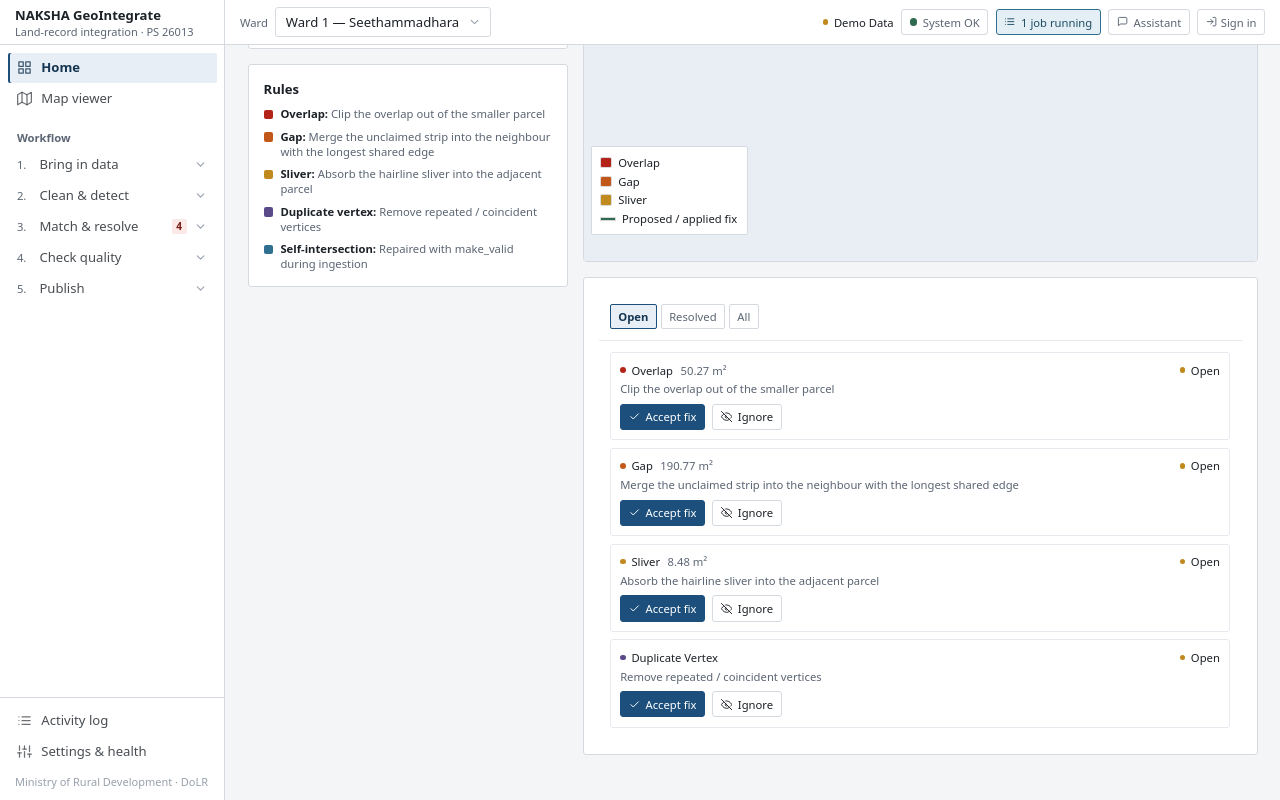
TopologyPage › lists open topology issues and accepts a fix
(page scrolled)
Click the 1st button "Accept fix": (662, 417) top-left (620, 404), bottom-right (705, 430)
(page scrolled)
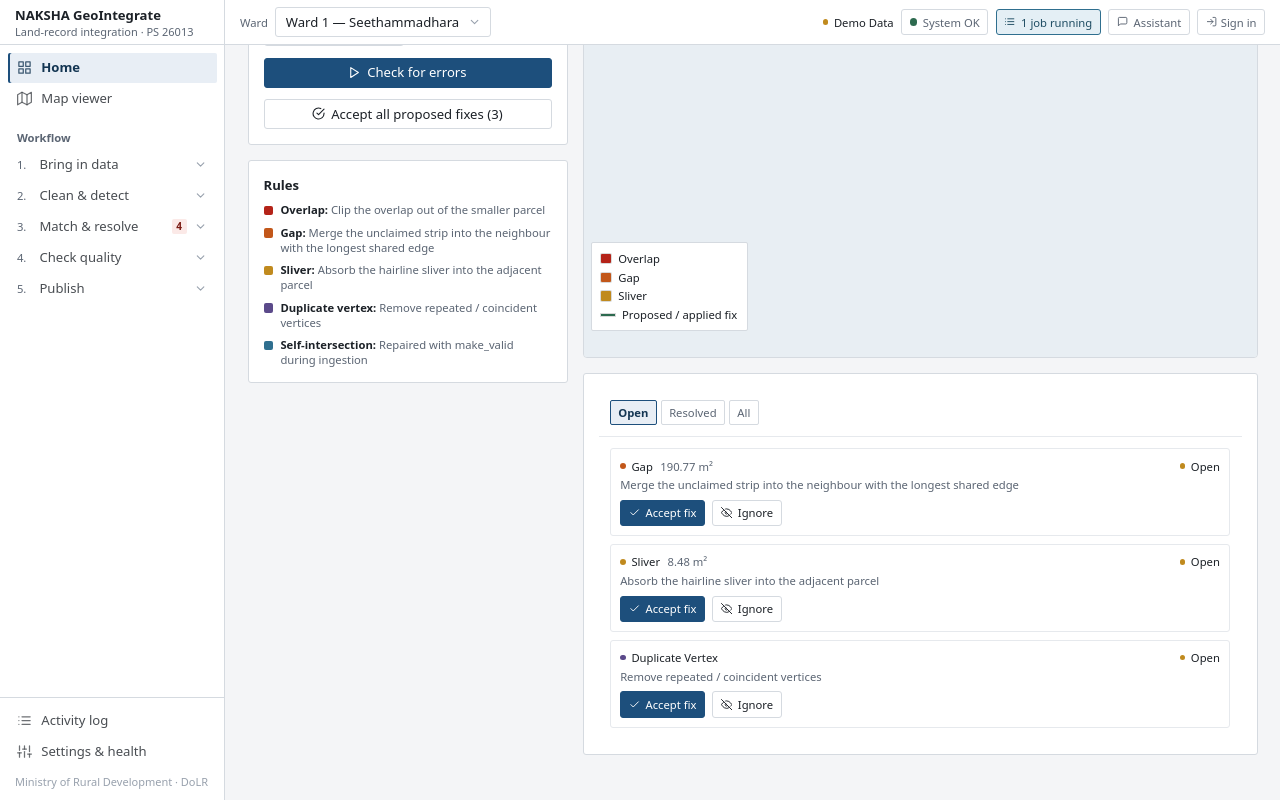
Now the number of buttons "Accept fix" is 3, box top-left (620, 500), bottom-right (705, 526); top-left (620, 596), bottom-right (705, 622); top-left (620, 691), bottom-right (705, 718)
